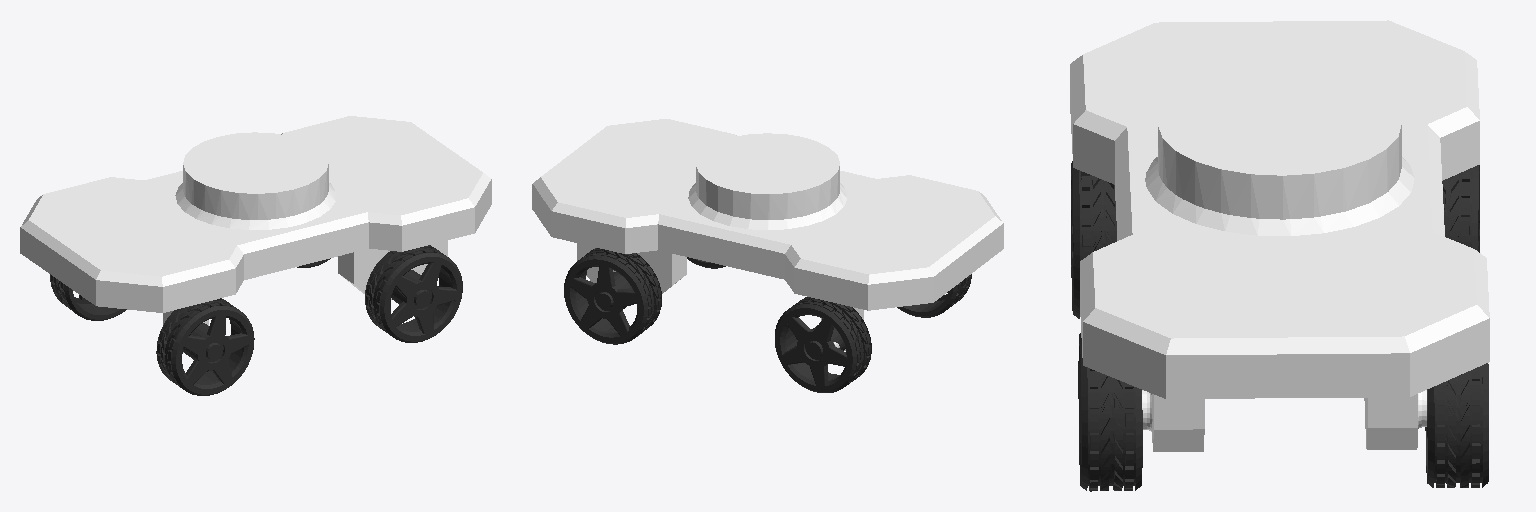
robot.urdf — car_assembly:
<?xml version="1.0" encoding="utf-8"?>
<!-- This URDF was automatically created by SolidWorks to URDF Exporter! Originally created by [author] ([email redacted]) 
     Commit Version: 1.6.0-4-g7f85cfe  Build Version: 1.6.7995.38578
     For more information, please see http://wiki.ros.org/sw_urdf_exporter -->
<robot
  name="car_assembly">
  <link
    name="base_link">
    <inertial>
      <origin
        xyz="0.0984933879187388 0.139538868480493 -0.0524164095634679"
        rpy="0 0 0" />
      <mass
        value="42.437819295697" />
      <inertia
        ixx="0.793248965062798"
        ixy="0.12082958397428"
        ixz="0.0438841068170688"
        iyy="3.47432493664263"
        iyz="-0.00250976744462374"
        izz="2.9050823428007" />
    </inertial>
    <visual>
      <origin
        xyz="0 0 0"
        rpy="0 0 0" />
      <geometry>
        <mesh
          filename="package://car_assembly/meshes/base_link.STL" />
      </geometry>
      <material
        name="">
        <color
          rgba="1 1 1 1" />
      </material>
    </visual>
    <collision>
      <origin
        xyz="0 0 0"
        rpy="0 0 0" />
      <geometry>
        <mesh
          filename="package://car_assembly/meshes/base_link.STL" />
      </geometry>
    </collision>
  </link>
  <link
    name="back_left_wheel_link">
    <inertial>
      <origin
        xyz="2.20701026898418E-11 2.3632068524293E-10 0.0485238176719048"
        rpy="0 0 0" />
      <mass
        value="0.929515950960187" />
      <inertia
        ixx="0.00334561969791303"
        ixy="-1.35412065084509E-12"
        ixz="-4.94448256074592E-13"
        iyy="0.00334561968377833"
        iyz="-5.13307857997287E-12"
        izz="0.00569925253456415" />
    </inertial>
    <visual>
      <origin
        xyz="0 0 0"
        rpy="0 0 0" />
      <geometry>
        <mesh
          filename="package://car_assembly/meshes/back_left_wheel_link.STL" />
      </geometry>
      <material
        name="">
        <color
          rgba="0.250980392156863 0.250980392156863 0.250980392156863 1" />
      </material>
    </visual>
    <collision>
      <origin
        xyz="0 0 0"
        rpy="0 0 0" />
      <geometry>
        <mesh
          filename="package://car_assembly/meshes/back_left_wheel_link.STL" />
      </geometry>
    </collision>
  </link>
  <joint
    name="back_left_wheel_joint"
    type="continuous">
    <origin
      xyz="0.32894 -0.11589 -0.017794"
      rpy="-1.5708 1.4356 -3.1208" />
    <parent
      link="base_link" />
    <child
      link="back_left_wheel_link" />
    <axis
      xyz="0 0 1" />
  </joint>
  <link
    name="back_right_wheel_link">
    <inertial>
      <origin
        xyz="2.19100848575238E-11 2.36971997580326E-10 0.0479937520853098"
        rpy="0 0 0" />
      <mass
        value="0.929515950263186" />
      <inertia
        ixx="0.00334561969667993"
        ixy="-1.35549519578422E-12"
        ixz="-4.91341972804708E-13"
        iyy="0.00334561968253039"
        iyz="-5.15041254599154E-12"
        izz="0.00569925253266686" />
    </inertial>
    <visual>
      <origin
        xyz="0 0 0"
        rpy="0 0 0" />
      <geometry>
        <mesh
          filename="package://car_assembly/meshes/back_right_wheel_link.STL" />
      </geometry>
      <material
        name="">
        <color
          rgba="0.250980392156863 0.250980392156863 0.250980392156863 1" />
      </material>
    </visual>
    <collision>
      <origin
        xyz="0 0 0"
        rpy="0 0 0" />
      <geometry>
        <mesh
          filename="package://car_assembly/meshes/back_right_wheel_link.STL" />
      </geometry>
    </collision>
  </link>
  <joint
    name="back_right_wheel_joint"
    type="continuous">
    <origin
      xyz="0.32174 0.23067 -0.017794"
      rpy="1.5708 0 -3.1208" />
    <parent
      link="base_link" />
    <child
      link="back_right_wheel_link" />
    <axis
      xyz="0 0 1" />
  </joint>
  <link
    name="front_left_steer_link">
    <inertial>
      <origin
        xyz="1.66541358932737E-05 0.0339902365470534 0.00881686894273455"
        rpy="0 0 0" />
      <mass
        value="0.979289571979995" />
      <inertia
        ixx="0.00377322322154386"
        ixy="8.43332889853372E-07"
        ixz="-9.37533254204548E-07"
        iyy="0.00118944602771482"
        iyz="0.000447122978840801"
        izz="0.00324735800237895" />
    </inertial>
    <visual>
      <origin
        xyz="0 0 0"
        rpy="0 0 0" />
      <geometry>
        <mesh
          filename="package://car_assembly/meshes/front_left_steer_link.STL" />
      </geometry>
      <material
        name="">
        <color
          rgba="1 1 1 1" />
      </material>
    </visual>
    <collision>
      <origin
        xyz="0 0 0"
        rpy="0 0 0" />
      <geometry>
        <mesh
          filename="package://car_assembly/meshes/front_left_steer_link.STL" />
      </geometry>
    </collision>
  </link>
  <joint
    name="front_left_steer_joint"
    type="continuous">
    <origin
      xyz="-0.17971 -0.089917 0"
      rpy="1.5708 0 0.019283" />
    <parent
      link="base_link" />
    <child
      link="front_left_steer_link" />
    <axis
      xyz="0 1 0" />
    <limit
      lower="-0.785"
      upper="0.785"
      effort="100"
      velocity="3.14" />
  </joint>
  <link
    name="front_left_wheel_link">
    <inertial>
      <origin
        xyz="2.21104939912564E-11 2.36410446774471E-10 0.0491271368458189"
        rpy="0 0 0" />
      <mass
        value="0.929515950852005" />
      <inertia
        ixx="0.00334561969772165"
        ixy="-1.3543360132468E-12"
        ixz="-4.955219516504E-13"
        iyy="0.00334561968358468"
        iyz="-5.13540815097078E-12"
        izz="0.00569925253426966" />
    </inertial>
    <visual>
      <origin
        xyz="0 0 0"
        rpy="0 0 0" />
      <geometry>
        <mesh
          filename="package://car_assembly/meshes/front_left_wheel_link.STL" />
      </geometry>
      <material
        name="">
        <color
          rgba="0.250980392156863 0.250980392156863 0.250980392156863 1" />
      </material>
    </visual>
    <collision>
      <origin
        xyz="0 0 0"
        rpy="0 0 0" />
      <geometry>
        <mesh
          filename="package://car_assembly/meshes/front_left_wheel_link.STL" />
      </geometry>
    </collision>
  </link>
  <joint
    name="front_left_wheel_joint"
    type="continuous">
    <origin
      xyz="0.00012521 -0.017794 0.035923"
      rpy="0 0 1.0465" />
    <parent
      link="front_left_steer_link" />
    <child
      link="front_left_wheel_link" />
    <axis
      xyz="0 0 1" />
  </joint>
  <link
    name="front_right_steer_link">
    <inertial>
      <origin
        xyz="1.66538436364716E-05 0.0339902362547982 0.00881686876318738"
        rpy="0 0 0" />
      <mass
        value="0.979289566987531" />
      <inertia
        ixx="0.00377322320424715"
        ixy="8.43350650471856E-07"
        ixz="-9.37529907092586E-07"
        iyy="0.00118944602573503"
        iyz="0.000447122989383998"
        izz="0.00324735798453781" />
    </inertial>
    <visual>
      <origin
        xyz="0 0 0"
        rpy="0 0 0" />
      <geometry>
        <mesh
          filename="package://car_assembly/meshes/front_right_steer_link.STL" />
      </geometry>
      <material
        name="">
        <color
          rgba="1 1 1 1" />
      </material>
    </visual>
    <collision>
      <origin
        xyz="0 0 0"
        rpy="0 0 0" />
      <geometry>
        <mesh
          filename="package://car_assembly/meshes/front_right_steer_link.STL" />
      </geometry>
    </collision>
  </link>
  <joint
    name="front_right_steer_joint"
    type="continuous">
    <origin
      xyz="-0.18538 0.18307 0"
      rpy="1.5708 0 3.1278" />
    <parent
      link="base_link" />
    <child
      link="front_right_steer_link" />
    <axis
      xyz="0 1 0" />
    <limit
      lower="-0.785"
      upper="0.785"
      effort="100"
      velocity="3.14" />
  </joint>
  <link
    name="front_right_wheel_link">
    <inertial>
      <origin
        xyz="2.26368368494434E-11 2.36441574652524E-10 0.0437602213911082"
        rpy="0 0 0" />
      <mass
        value="0.929515949350559" />
      <inertia
        ixx="0.00334561969506469"
        ixy="-1.35743100890269E-12"
        ixz="-5.07741489504847E-13"
        iyy="0.00334561968089601"
        iyz="-5.13870792197681E-12"
        izz="0.0056992525301826" />
    </inertial>
    <visual>
      <origin
        xyz="0 0 0"
        rpy="0 0 0" />
      <geometry>
        <mesh
          filename="package://car_assembly/meshes/front_right_wheel_link.STL" />
      </geometry>
      <material
        name="">
        <color
          rgba="0.250980392156863 0.250980392156863 0.250980392156863 1" />
      </material>
    </visual>
    <collision>
      <origin
        xyz="0 0 0"
        rpy="0 0 0" />
      <geometry>
        <mesh
          filename="package://car_assembly/meshes/front_right_wheel_link.STL" />
      </geometry>
    </collision>
  </link>
  <joint
    name="front_right_wheel_joint"
    type="continuous">
    <origin
      xyz="0.00012521 -0.017794 0.04129"
      rpy="0 0 -0.43105" />
    <parent
      link="front_right_steer_link" />
    <child
      link="front_right_wheel_link" />
    <axis
      xyz="0 0 1" />
  </joint>
</robot>

--- What the picture shows (computed from the rendered views, not written in the file) ---
3 views of the same robot in one strip: view 1: azimuth 30°, elevation 25°; view 2: azimuth 150°, elevation 25°; view 3: azimuth 270°, elevation 25° (orthographic).
Model car_assembly with 7 links and 6 joints (6 continuous), rooted at base_link, posed all joints at 0.
Visible links, largest first — view 1: base_link, back_left_wheel_link, front_left_wheel_link, front_right_wheel_link; view 2: base_link, back_right_wheel_link, front_right_wheel_link, front_left_wheel_link; view 3: base_link, back_left_wheel_link, back_right_wheel_link, front_left_wheel_link, front_right_wheel_link.
Link boxes in pixels (x1,y1,x2,y2): base_link: (20, 116, 491, 312); back_left_wheel_link: (365, 245, 462, 342); front_left_wheel_link: (156, 298, 254, 395); front_right_wheel_link: (50, 274, 126, 320); base_link: (532, 119, 1003, 310); back_right_wheel_link: (564, 248, 661, 344); front_right_wheel_link: (775, 297, 871, 392); front_left_wheel_link: (897, 274, 971, 317); base_link: (1070, 20, 1489, 451); back_left_wheel_link: (1078, 333, 1142, 491); back_right_wheel_link: (1425, 363, 1488, 487); front_left_wheel_link: (1071, 161, 1116, 318); front_right_wheel_link: (1442, 165, 1479, 252).
Bounding box of the posed robot: 0.9713 × 0.5237 × 0.3746 m (x, y, z).
Meshes: 7 distinct files referenced, 7 mesh visuals loaded (7 binary STL).